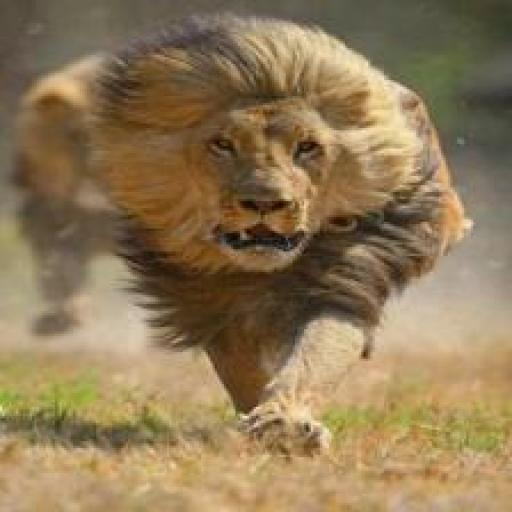lion: (112, 18, 463, 286)
